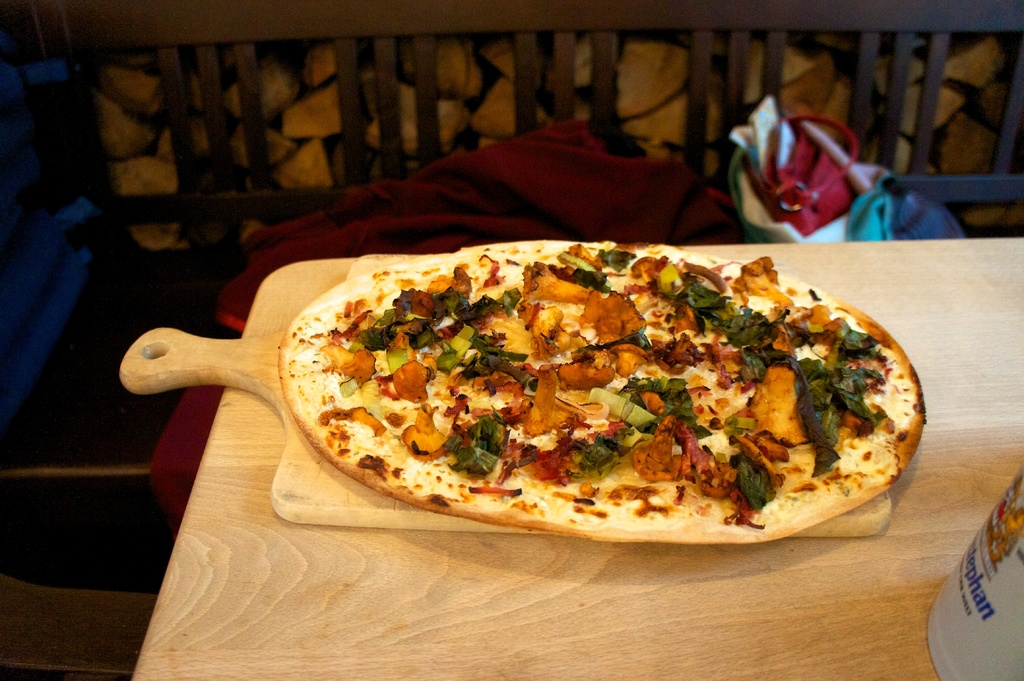Pizza: (274, 234, 926, 545)
